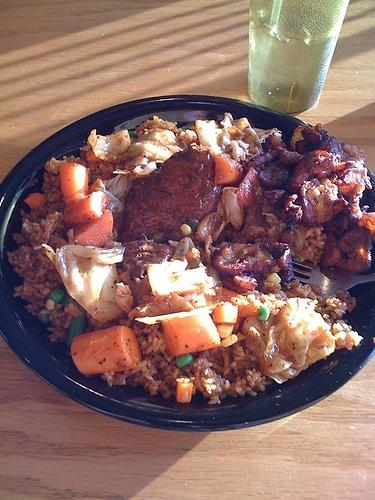carrot: (72, 325, 142, 376), (162, 312, 222, 358), (64, 190, 112, 226), (72, 209, 113, 247), (219, 288, 262, 318), (59, 162, 89, 204), (236, 166, 262, 208), (214, 156, 244, 186), (24, 192, 47, 210), (213, 306, 238, 322), (175, 382, 193, 402), (217, 324, 234, 339), (86, 149, 101, 162)
corn: (216, 322, 235, 338), (222, 334, 238, 348), (266, 272, 282, 284), (180, 224, 192, 235), (46, 300, 54, 310)
pea: (176, 354, 194, 368), (255, 304, 270, 320), (50, 290, 65, 304), (152, 234, 166, 244), (60, 294, 70, 306), (189, 218, 199, 228), (42, 314, 51, 324), (293, 256, 304, 264), (130, 132, 136, 138)
